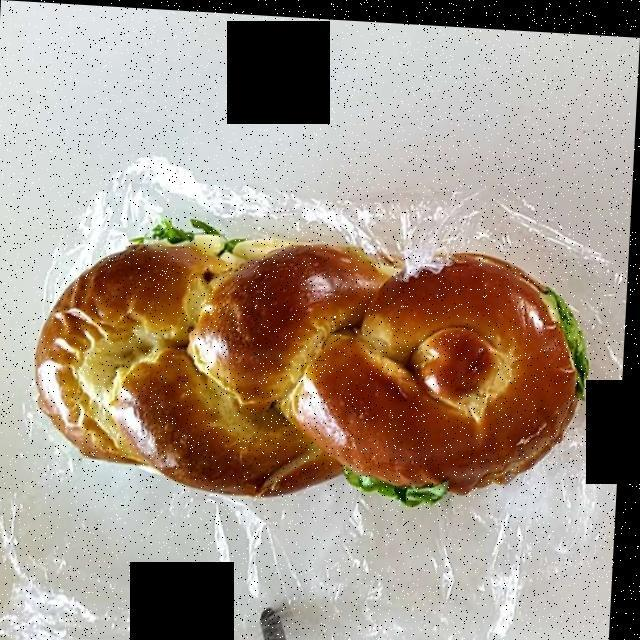pretzel: (49, 216, 596, 485)
